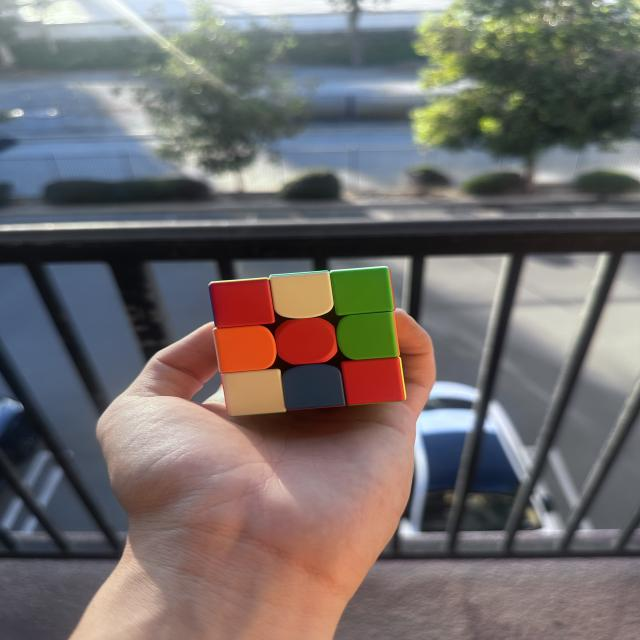sticker: (338, 354, 407, 408), (206, 277, 276, 329), (328, 266, 396, 318), (268, 270, 336, 322), (335, 311, 400, 362), (220, 368, 286, 418), (280, 363, 346, 413), (212, 324, 277, 374), (274, 317, 338, 366)
